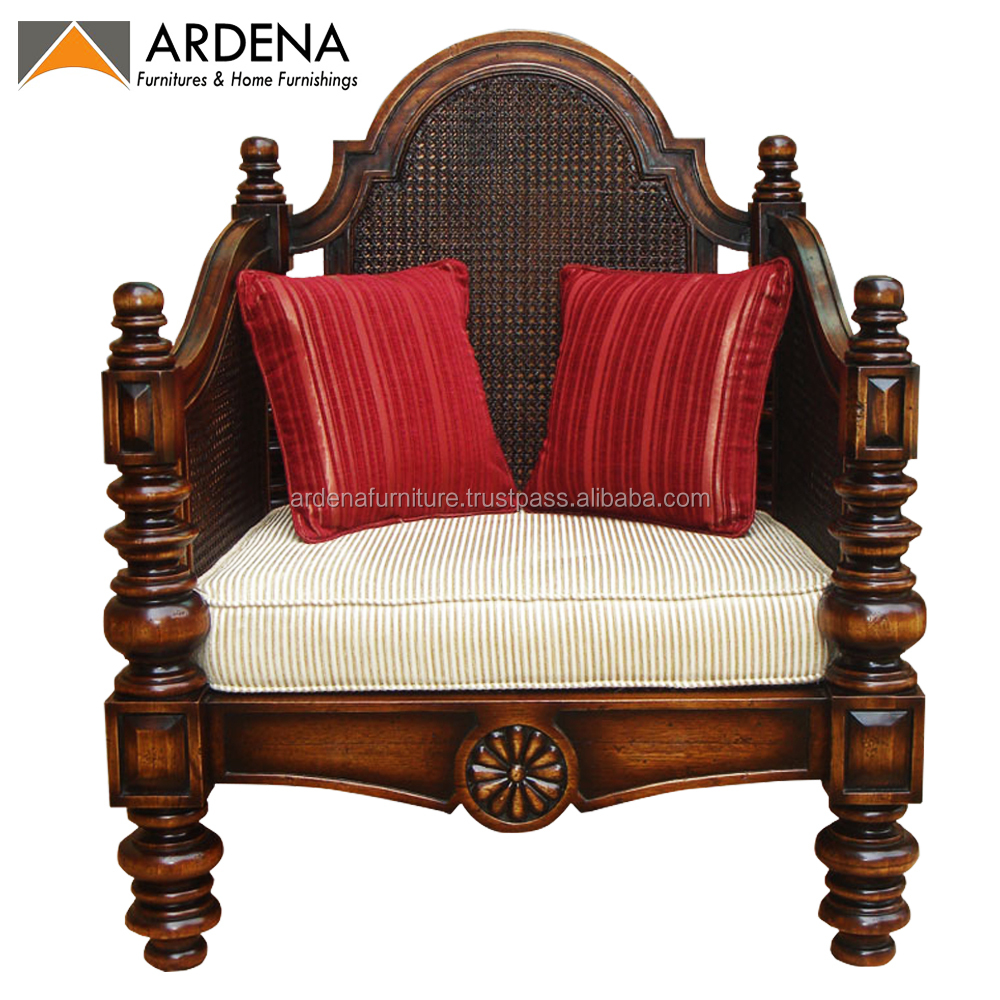kursi: (108, 37, 923, 978)
